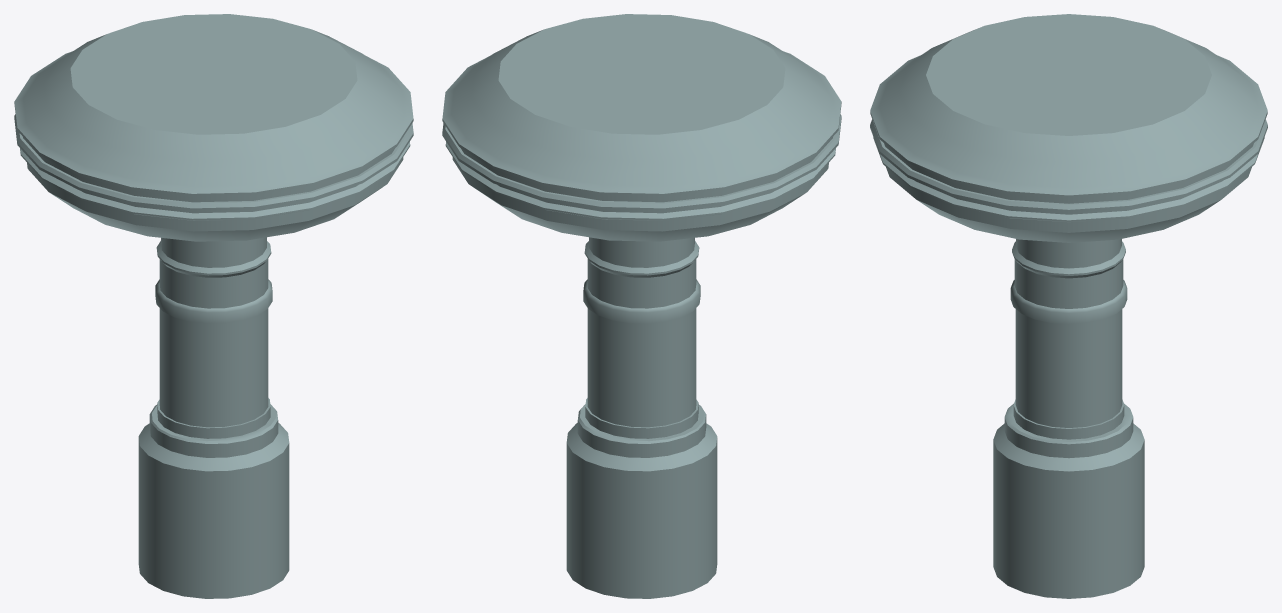
The model's file is Building3.fbx.
3 views of the same model, side by side, from view 1: azimuth 30°, elevation 25°; view 2: azimuth 150°, elevation 25°; view 3: azimuth 270°, elevation 25° (orthographic).
Parts seen in each view (by area): view 1: pCylinder7; view 2: pCylinder7; view 3: pCylinder7.
Boxes of the visible parts, box(x1,y1,x2,y2) form: pCylinder7: box(14, 14, 413, 598); pCylinder7: box(442, 14, 841, 598); pCylinder7: box(870, 14, 1267, 598).
Bounding box in the file's own units: 20.35 × 27.46 × 20.13.
